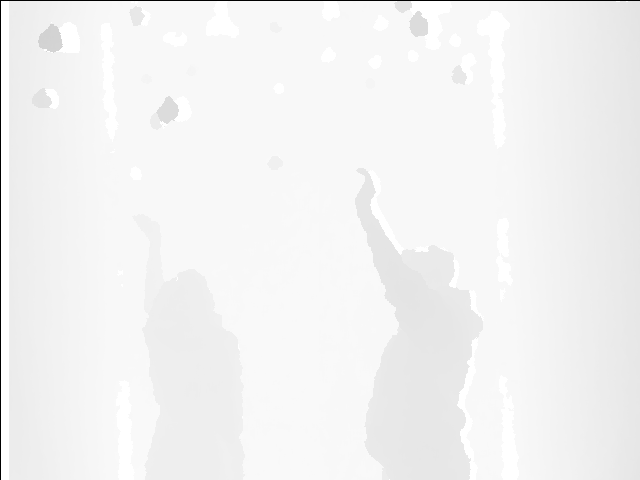hand: (352, 162, 381, 213), (129, 213, 164, 242)
